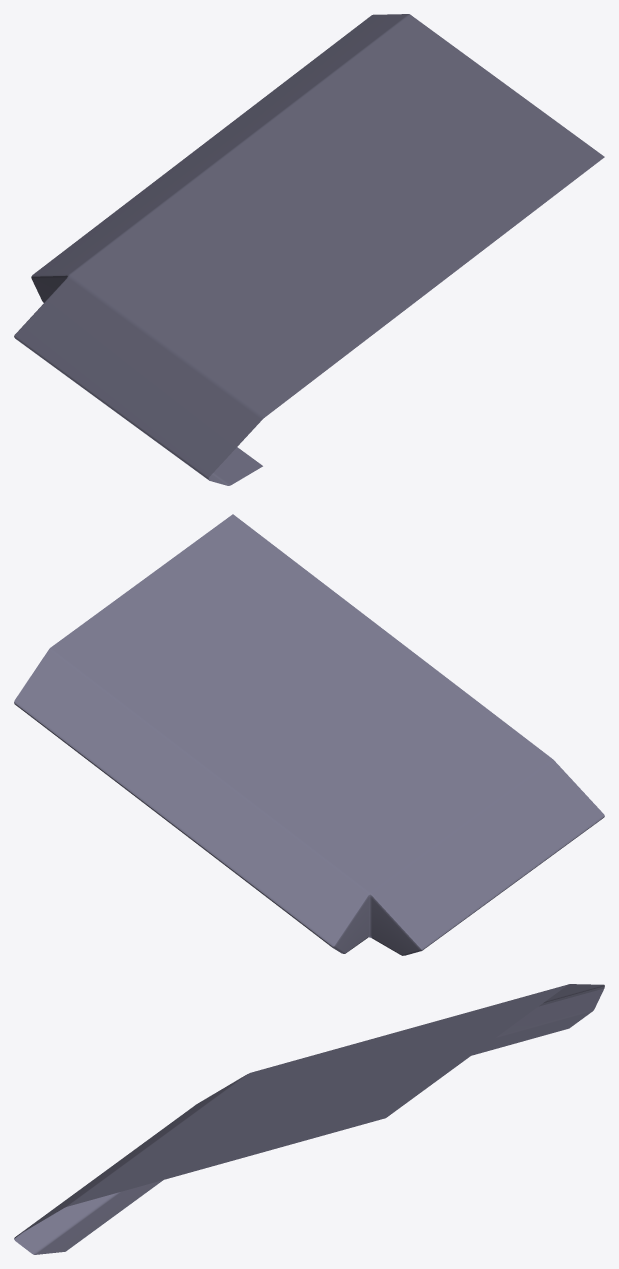
File: SM_RoofBL.fbx
3 views of the same model, one above another, from view 1: azimuth 30°, elevation 25°; view 2: azimuth 150°, elevation 25°; view 3: azimuth 330°, elevation 25° (orthographic). The views are drawn at different scales.
Visible parts, largest first — view 1: modular_serious:pCube5; view 2: modular_serious:pCube5; view 3: modular_serious:pCube5.
Boxes of the visible parts, x1,y1,x2,y2 form: modular_serious:pCube5: (14,14,604,485); modular_serious:pCube5: (14,514,604,955); modular_serious:pCube5: (14,984,604,1254).
Bounding box in the file's own units: 349 × 200 × 356.
